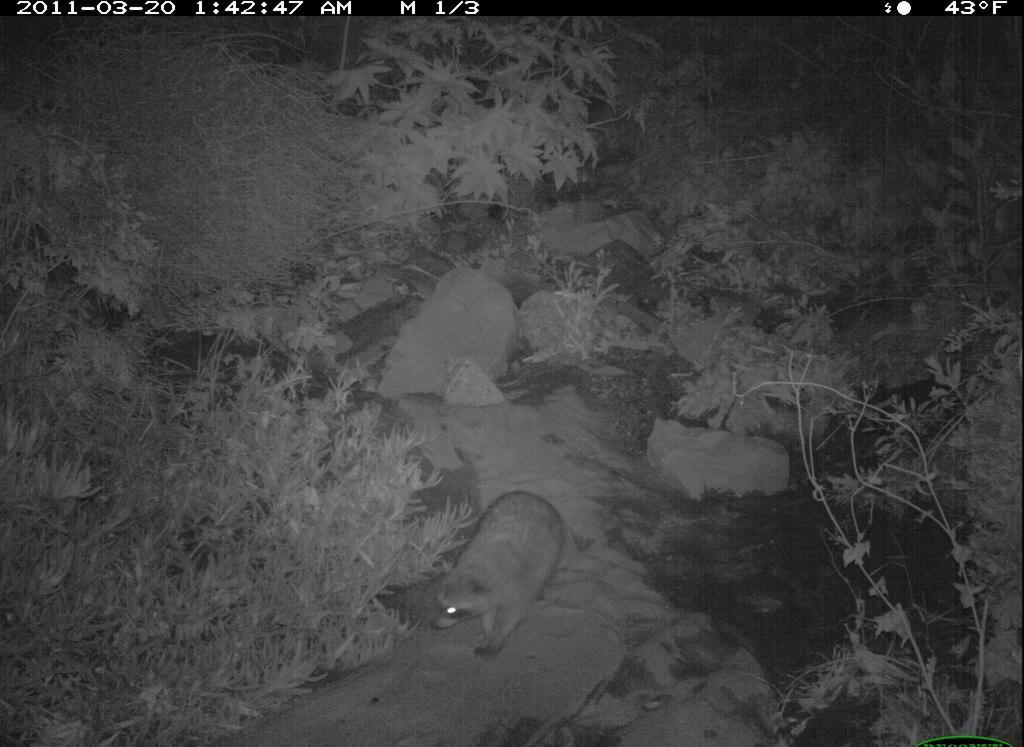raccoon: (426, 482, 591, 675)
